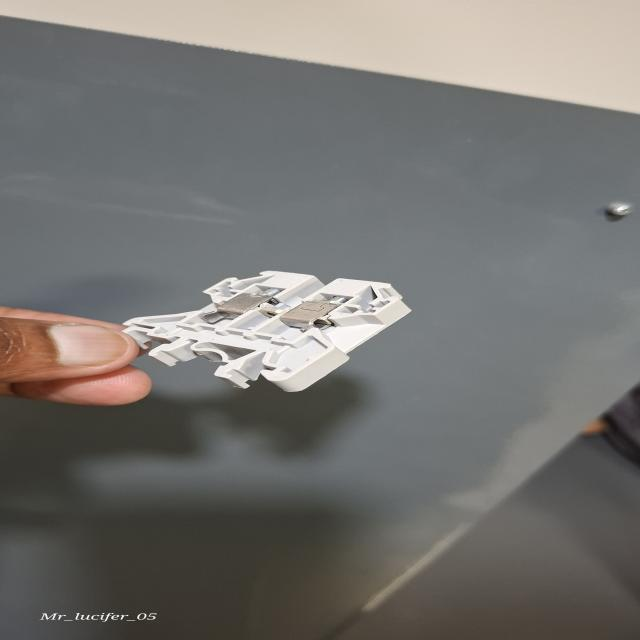Pass: (103, 261, 433, 404)
